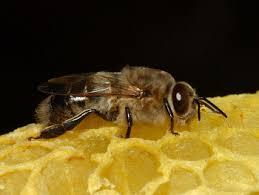worker-bee: (29, 64, 226, 138)
